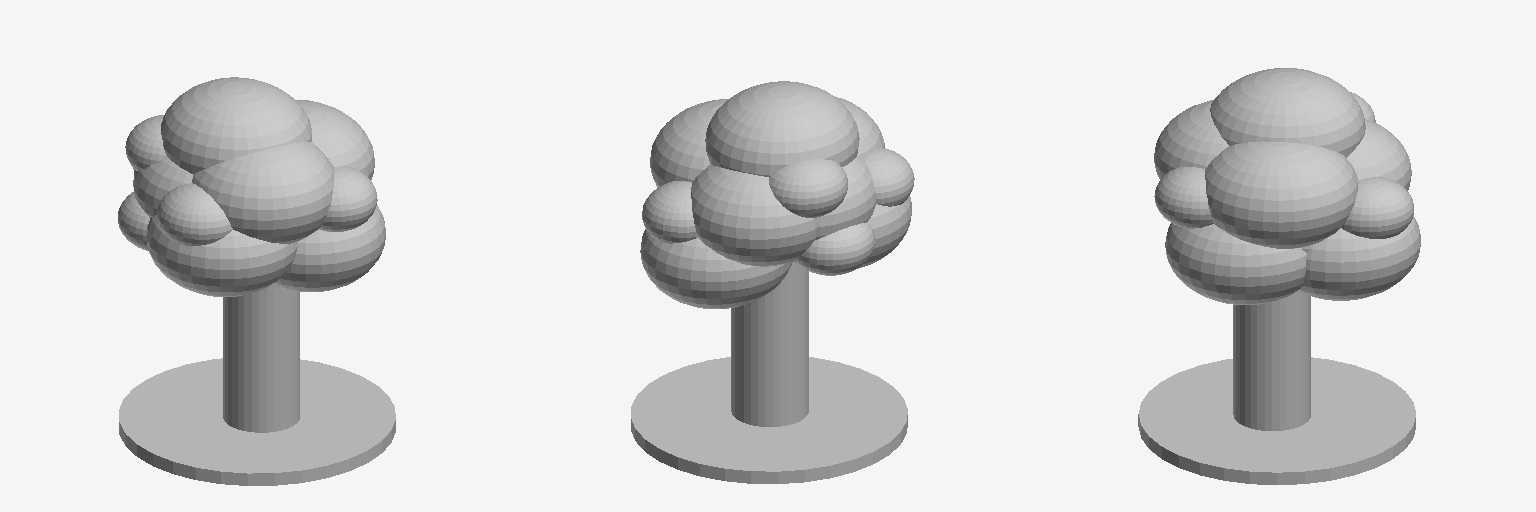
Rendered from tree.obj.
3 renders of one model, left to right at view 1: azimuth 30°, elevation 25°; view 2: azimuth 150°, elevation 25°; view 3: azimuth 270°, elevation 25°, orthographic.
Visible parts, largest first — view 1: Cylinder; view 2: Cylinder; view 3: Cylinder.
Boxes of the visible parts, <box> form: Cylinder: <box>118,77,395,485</box>; Cylinder: <box>631,81,914,483</box>; Cylinder: <box>1138,68,1420,484</box>.
Bounding box in the file's own units: 2 × 2.71 × 2.04.